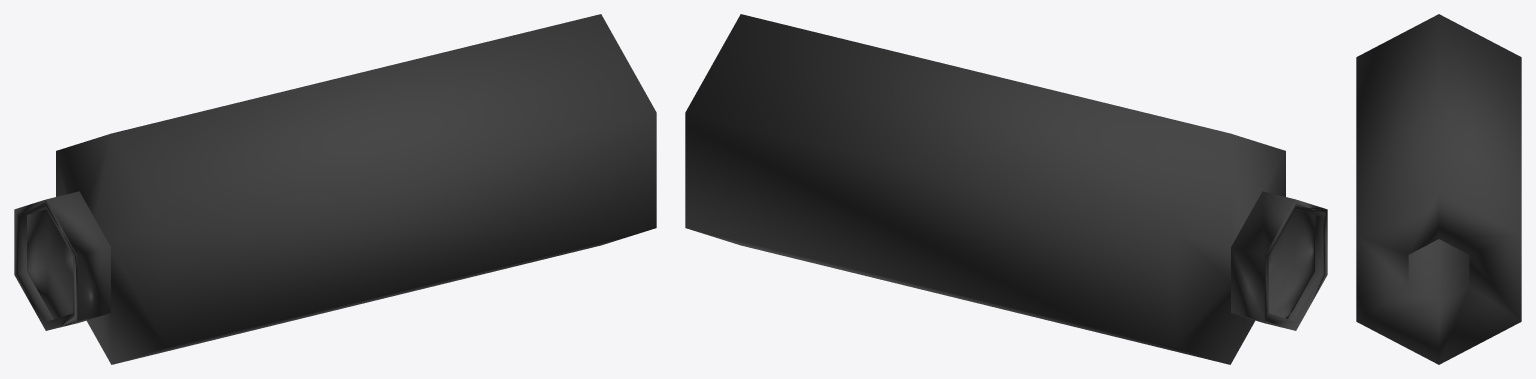
File: char_012_weapon_01_pistol_01_silencer_FBX.fbx
3 views of the same model, side by side, from view 1: azimuth 30°, elevation 25°; view 2: azimuth 150°, elevation 25°; view 3: azimuth 270°, elevation 25° (orthographic). The views are drawn at different scales.
Visible parts, largest first — view 1: item_pistol_siilencer_01; view 2: item_pistol_siilencer_01; view 3: item_pistol_siilencer_01.
Part boxes in pixels (x1,y1,x2,y2): item_pistol_siilencer_01: (14,14,656,364); item_pistol_siilencer_01: (685,14,1327,364); item_pistol_siilencer_01: (1356,14,1521,364).
Bounding box in the file's own units: 0.4642 × 0.1849 × 0.1601.
Materials: 1 (1 with a texture image).
